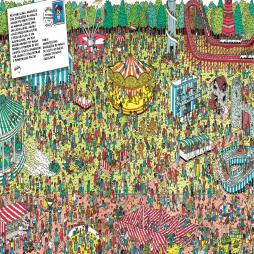odlaw: (150, 60, 152, 67)
wally: (54, 2, 64, 24), (185, 128, 189, 140)
wenda: (24, 200, 27, 210)
wizard_whitebeard: (103, 144, 108, 153)
